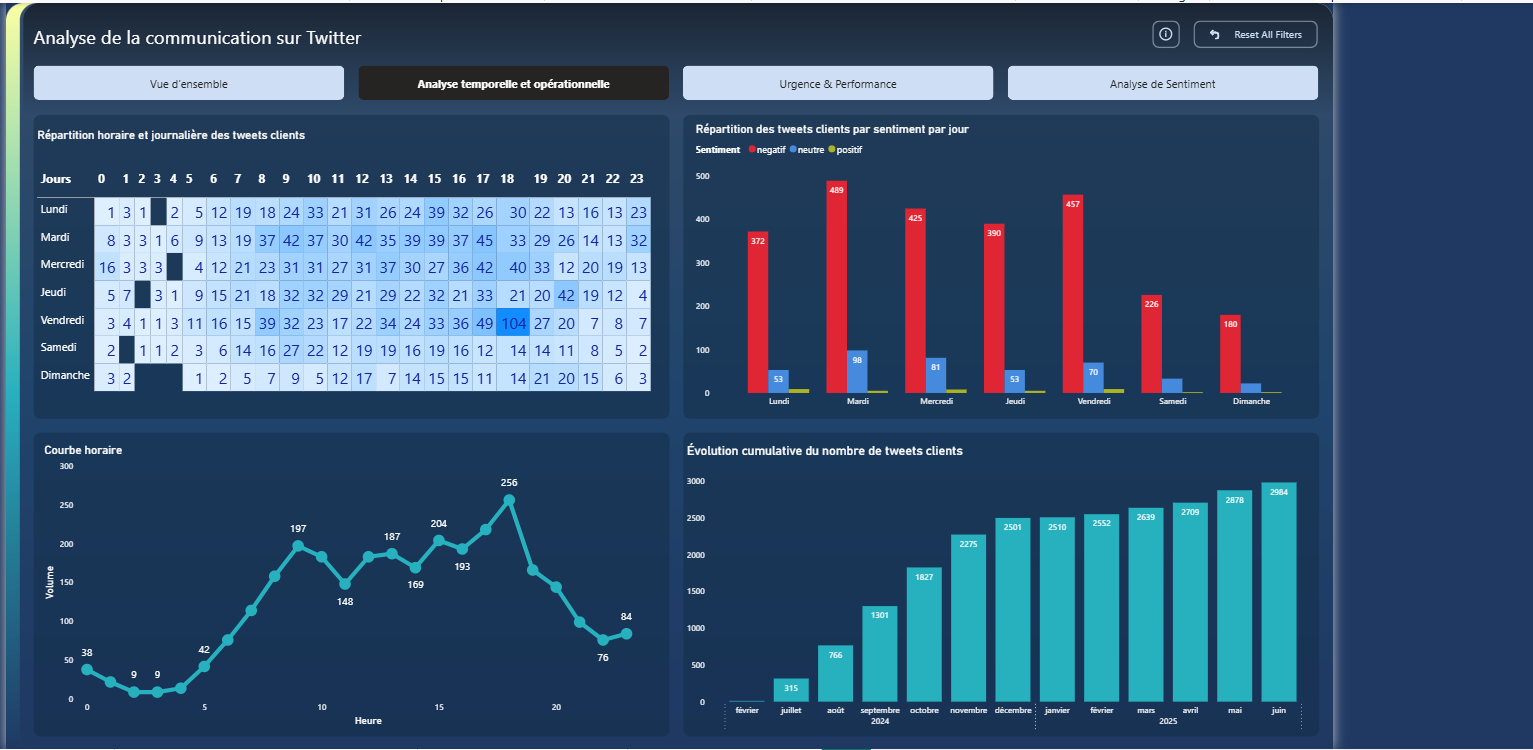

The page's visual inventory and layout, read from the dashboard file:
{"tool":"powerbi","page":{"name":"Analyse temporelle et opérationnelle","canvas":[1920,1080],"ordinal":1},"visuals":[{"type":"textbox","box":[40,30,599.9,50],"z":1000},{"type":"pageNavigator","box":[40,90,1860,50],"z":2000},{"type":"actionButton","box":[1720.1,25,180,40],"z":3000},{"type":"actionButton","box":[1660,25.3,40,40],"z":4000},{"type":"pivotTable","title":"Répartition horaire et journalière des tweets clients","fields":{"Rows":["Table_Jours.Jours"],"Columns":["tweets_scored_llm_new.Heure_Tweet"],"Values":["Mesures.Nb_Tweets_clients"]},"box":[25.8,161.7,934.9,433.5],"z":6000},{"type":"lineChart","title":"Courbe horaire","fields":{"Y":["Mesures.Nb_Tweets_clients"],"Category":["tweets_scored_llm_new.Heure_Tweet"]},"box":[49.8,637,896.9,414.8],"z":7000},{"type":"columnChart","title":"Évolution cumulative du nombre de tweets clients","fields":{"Y":["Mesures.Nb_Tweets_Cumul"],"Category":["Calendrier.Annee","Calendrier.Mois"]},"box":[980.8,636.9,919.1,425.6],"z":8000},{"type":"clusteredColumnChart","title":"Répartition des tweets clients par sentiment par jour","fields":{"Category":["Table_Jours.Jours"],"Y":["Mesures.Nb_Tweets_clients"],"Series":["tweets_scored_llm_new.sentiment_label"]},"box":[993.3,172.6,906.3,422.6],"z":9000}]}

Visuals, with their boxes on the page's 1920x1080 design canvas (x1, y1, x2, y2). These are canvas units, not pixel positions in the 1533x750 screenshot, which may show the page scaled, cropped or inside an application window:
textbox: Rect(40, 30, 640, 80)
pageNavigator: Rect(40, 90, 1900, 140)
actionButton: Rect(1720, 25, 1900, 65)
actionButton: Rect(1660, 25, 1700, 65)
"Répartition horaire et journalière des tweets clients" pivotTable: Rect(26, 162, 961, 595)
"Courbe horaire" lineChart: Rect(50, 637, 947, 1052)
"Évolution cumulative du nombre de tweets clients" columnChart: Rect(981, 637, 1900, 1062)
"Répartition des tweets clients par sentiment par jour" clusteredColumnChart: Rect(993, 173, 1900, 595)
